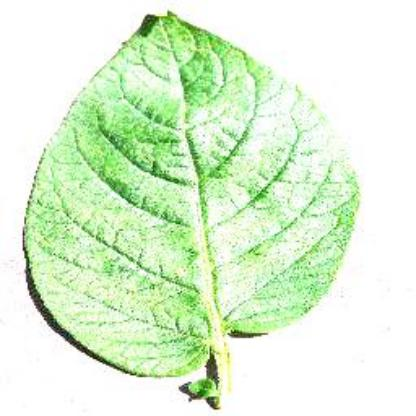Healthy-plant: (15, 11, 392, 393)
